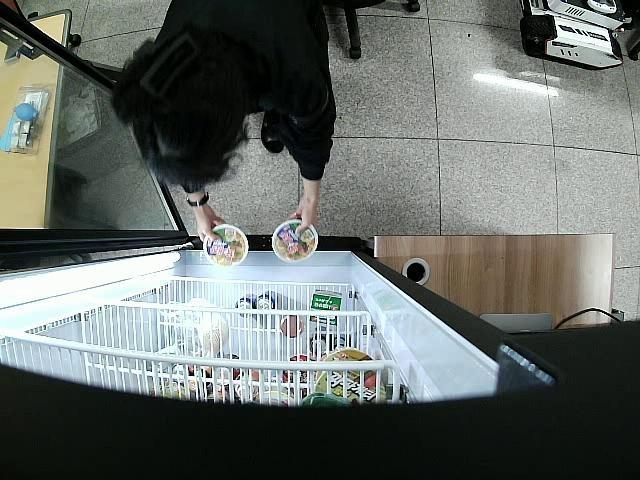09_yukGaeJang: (204, 224, 249, 269), (272, 220, 318, 263)
